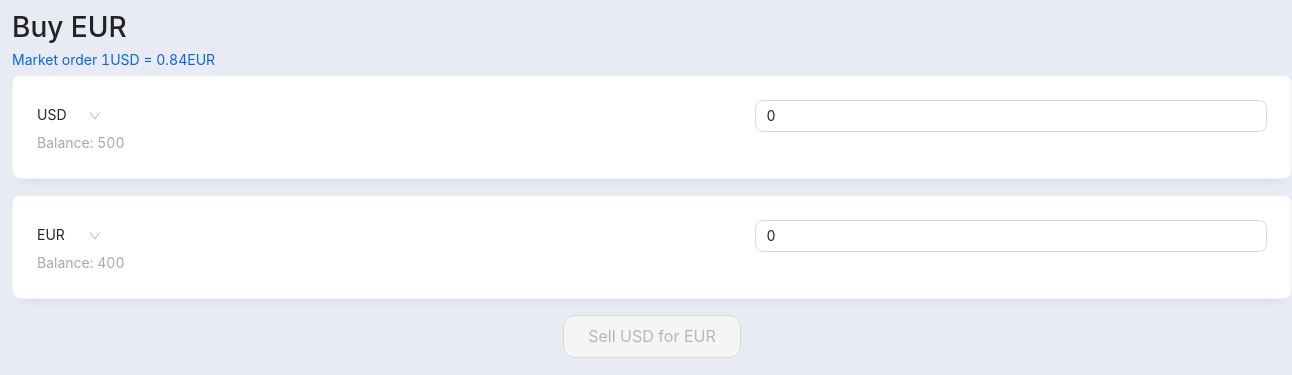
Test: After data fetching › Input validation › Should trim buying input value to 2 decimals
Type "420.699999" into the 2nd field with placeholder "0" at (1011, 236), box top-left (754, 220), bottom-right (1267, 252)
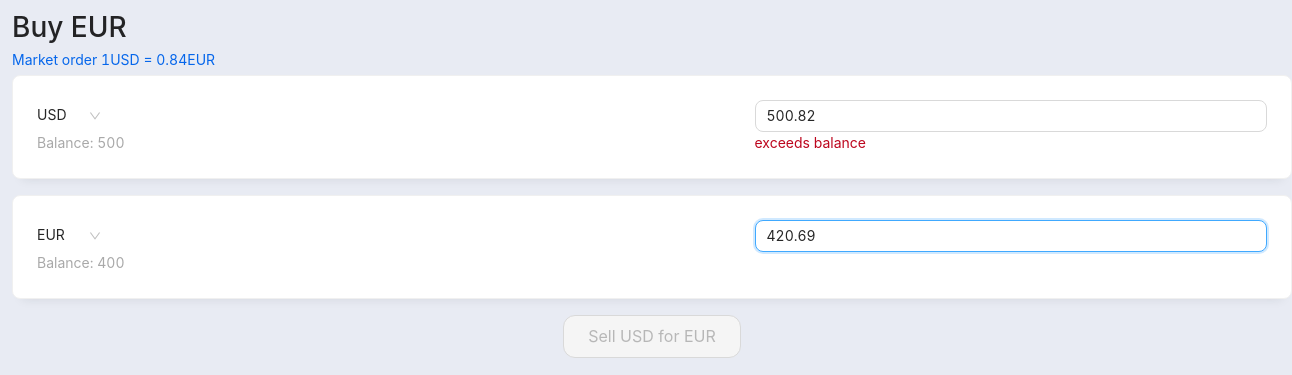
Expected: the 2nd field with placeholder "0" holds "420.69", top-left (754, 220), bottom-right (1267, 252)
